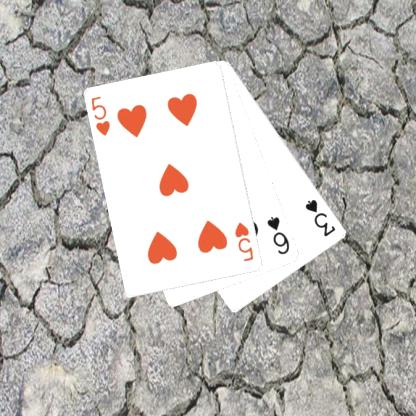3S: (302, 196, 338, 238)
5H: (232, 219, 256, 264), (88, 93, 112, 138)
6S: (264, 214, 291, 256)
